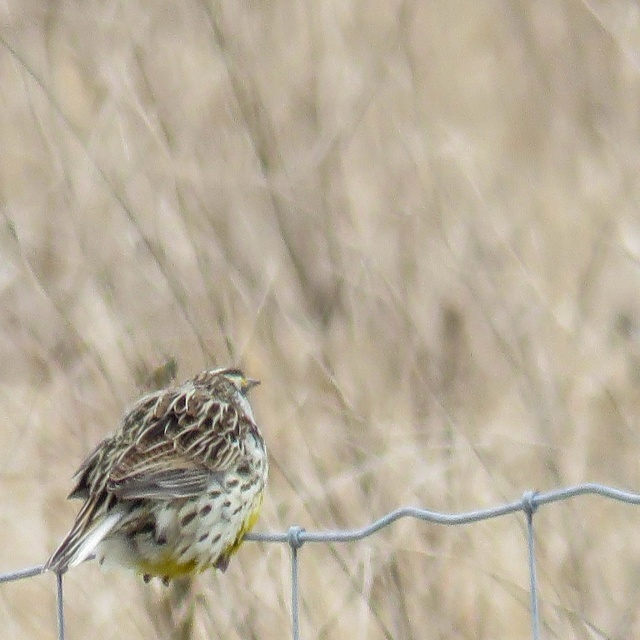Sparrow: (44, 364, 269, 586)
